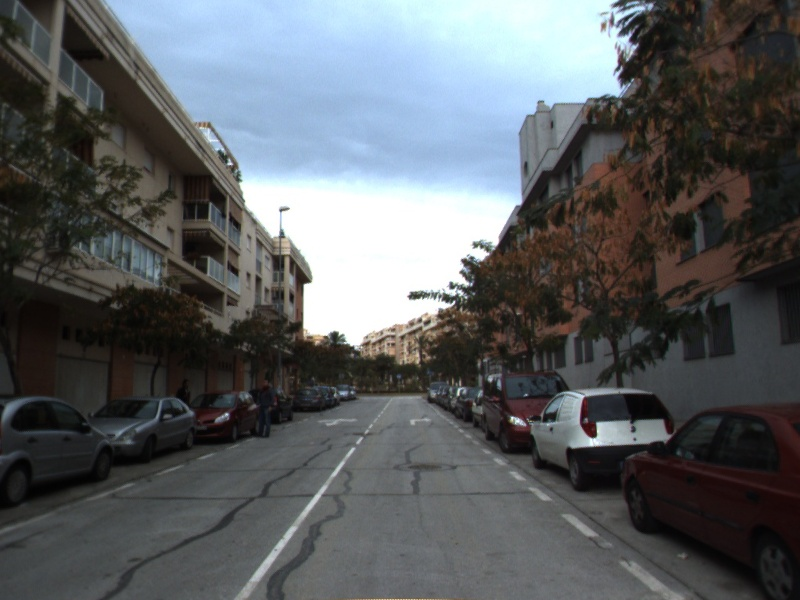RIGHT: (407, 415, 435, 427)
